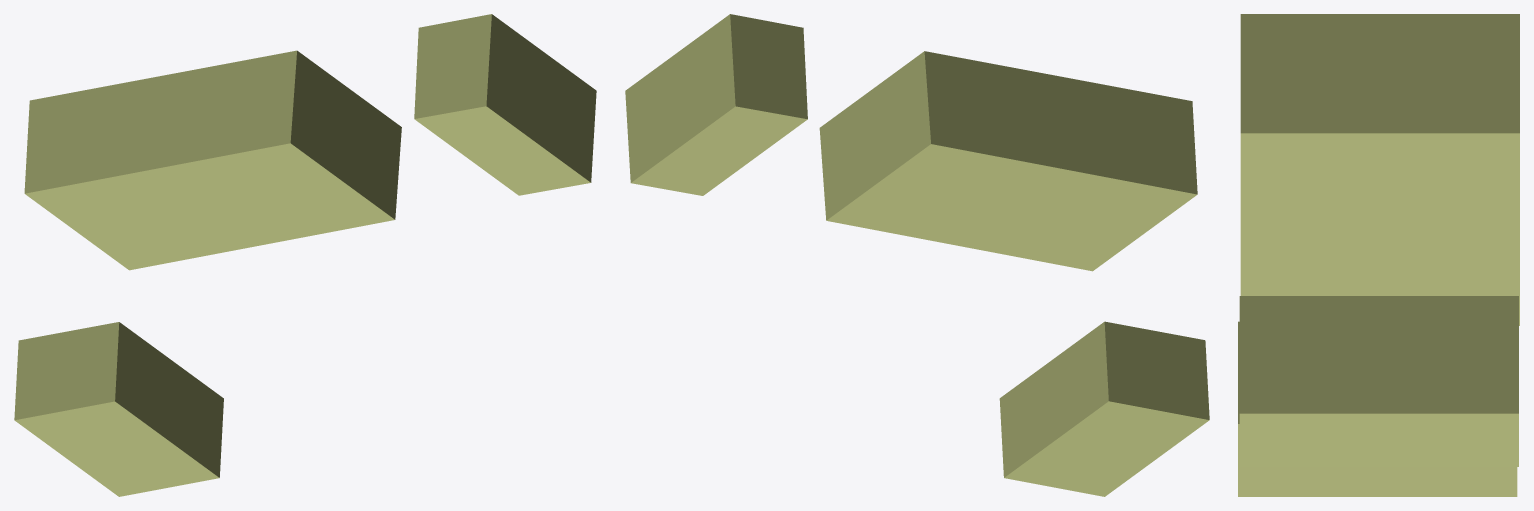
3 renders of one model, left to right at view 1: azimuth 30°, elevation 25°; view 2: azimuth 150°, elevation 25°; view 3: azimuth 270°, elevation 25°, orthographic. The views are drawn at different scales.
Parts seen in each view (by area): view 1: 0_3_2_0_1_3_0_1_3; view 2: 0_3_2_0_1_3_0_1_3; view 3: 0_3_2_0_1_3_0_1_3.
Boxes of the visible parts, bbox=[...] form: 0_3_2_0_1_3_0_1_3: bbox=[14, 14, 596, 496]; 0_3_2_0_1_3_0_1_3: bbox=[625, 14, 1209, 496]; 0_3_2_0_1_3_0_1_3: bbox=[1238, 14, 1519, 496].
Bounding box in the file's own units: 23.72 × 15.21 × 9.08.
